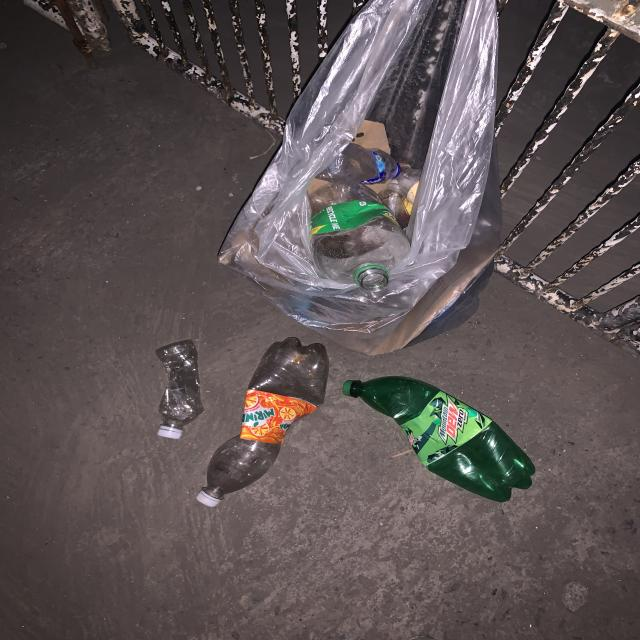Bottle: (343, 376, 535, 502), (197, 337, 329, 506), (156, 340, 204, 439)
